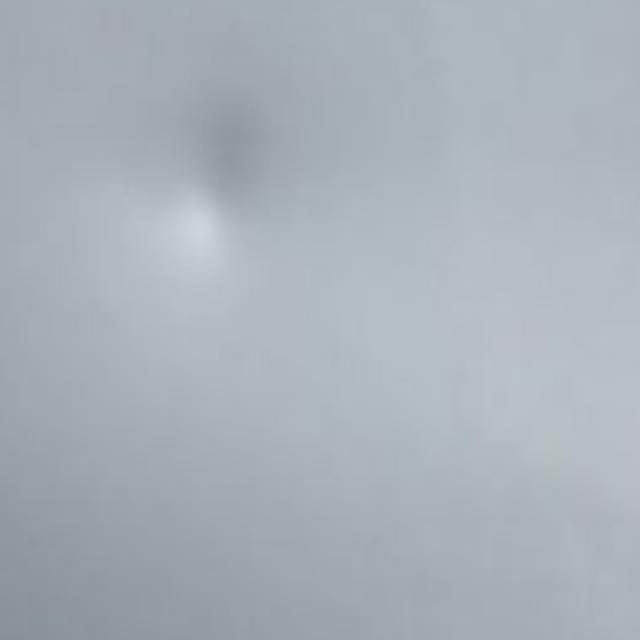dents: (158, 98, 293, 269)
